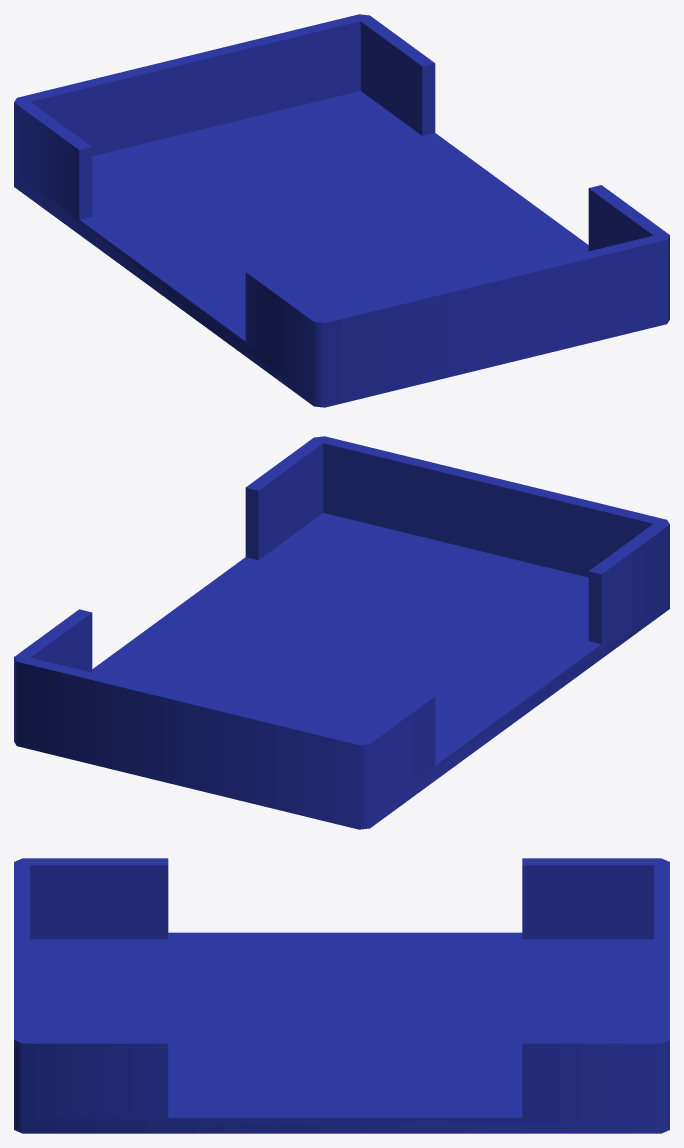
Rendered from Paper_Stray.fbx.
3 views of the same model, one above another, from view 1: azimuth 30°, elevation 25°; view 2: azimuth 150°, elevation 25°; view 3: azimuth 270°, elevation 25° (orthographic). The views are drawn at different scales.
Parts seen in each view (by area): view 1: Paper Stray; view 2: Paper Stray; view 3: Paper Stray.
Part boxes in pixels (<box>): Paper Stray: <box>14,14,669,407</box>; Paper Stray: <box>14,436,669,829</box>; Paper Stray: <box>14,858,669,1133</box>.
Bounding box in the file's own units: 26.96 × 6.12 × 40.39.
